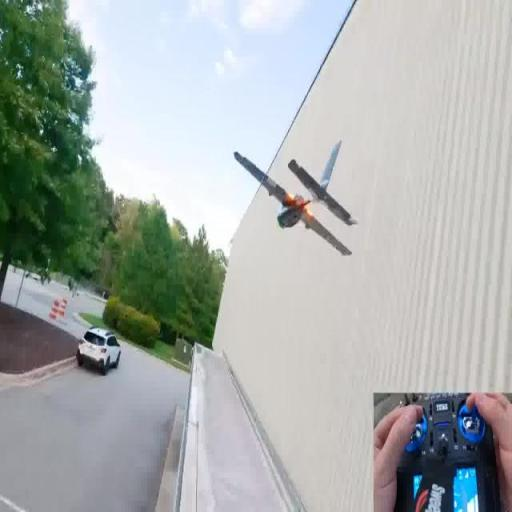uav: (232, 138, 362, 272)
